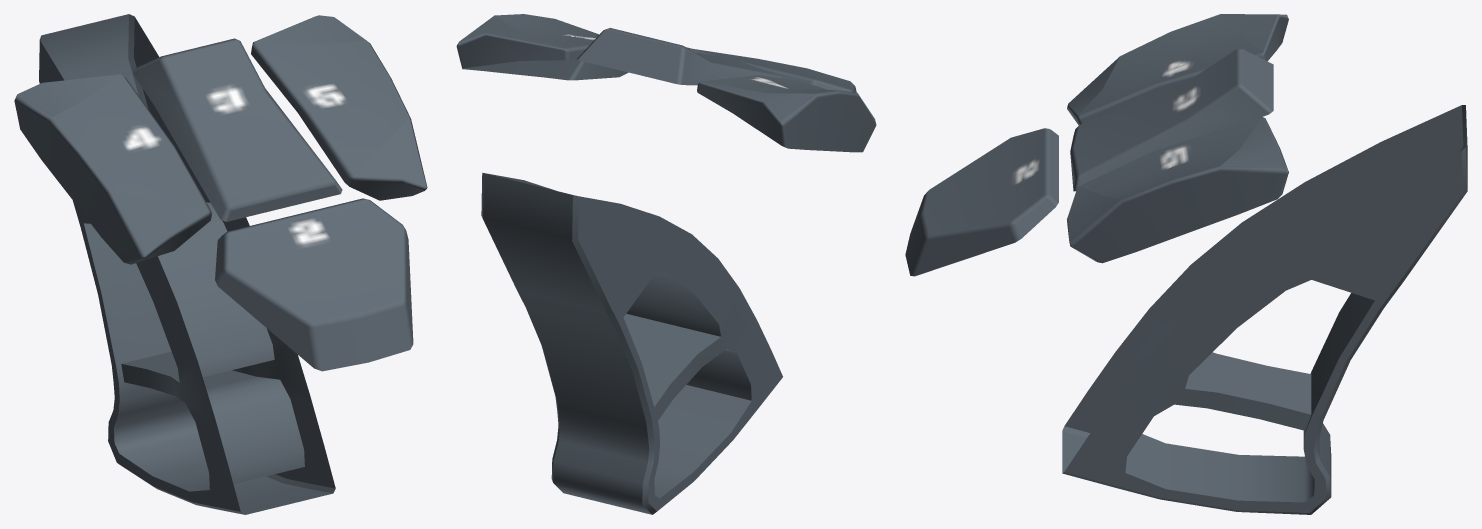
Rendered from JoyStick2.fbx.
3 views of the same model, side by side, from view 1: azimuth 30°, elevation 25°; view 2: azimuth 150°, elevation 25°; view 3: azimuth 270°, elevation 25° (orthographic). The views are drawn at different scales.
Visible parts, largest first — view 1: Trigger, 2, 4, 3, 5; view 2: Trigger, 4, 5, 3, 2; view 3: Trigger, 5, 2, 3, 4.
Part boxes in pixels (x1,y1,x2,y2): Trigger: [39, 14, 335, 514]; 2: [215, 198, 413, 371]; 4: [14, 74, 211, 264]; 3: [133, 38, 342, 221]; 5: [251, 15, 427, 200]; Trigger: [481, 172, 782, 514]; 4: [697, 75, 876, 152]; 5: [456, 14, 628, 80]; 3: [577, 28, 781, 85]; 2: [686, 47, 856, 92]; Trigger: [1062, 105, 1467, 514]; 5: [1067, 117, 1288, 263]; 2: [905, 128, 1058, 276]; 3: [1070, 49, 1273, 191]; 4: [1067, 14, 1288, 125].
Bounding box in the file's own units: 4.45 × 5.69 × 6.79.
